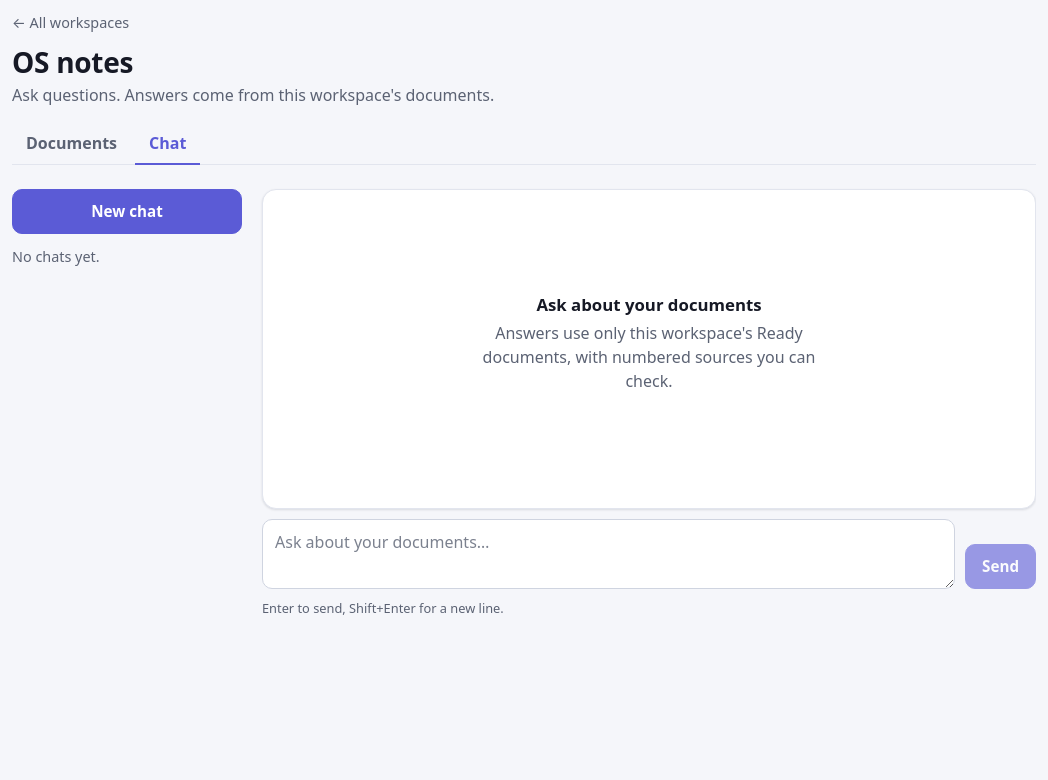
it: ChatPage › keeps the question and explains when the model is not available
The image size is (1048, 780).
Type "What is round-robin?" into the text box named "Your question".
click(609, 554); type("What is round-robin?")  # box x1=262 y1=519 x2=955 y2=589
Then press Enter
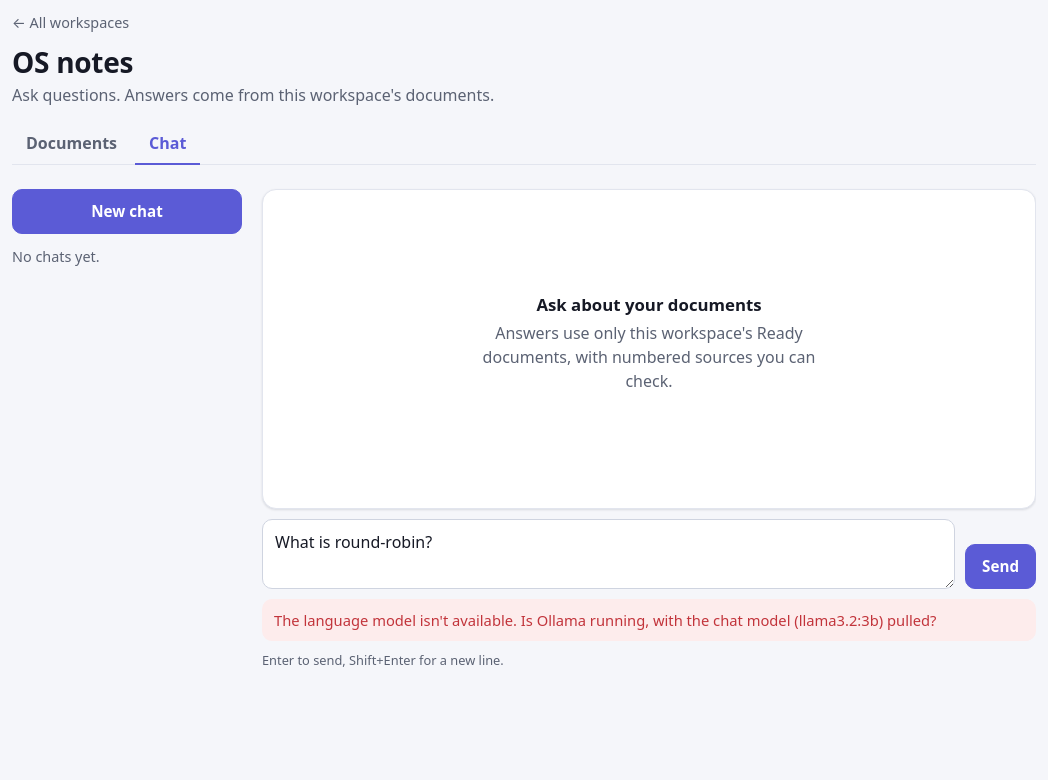
Expected: the message shows "The language model isn't available", x1=274 y1=610 x2=936 y2=630
